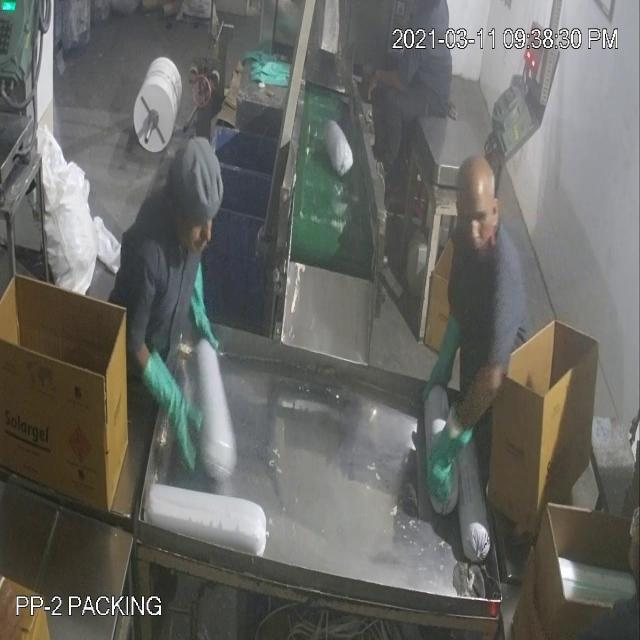Gloves: (46, 54, 445, 461)
